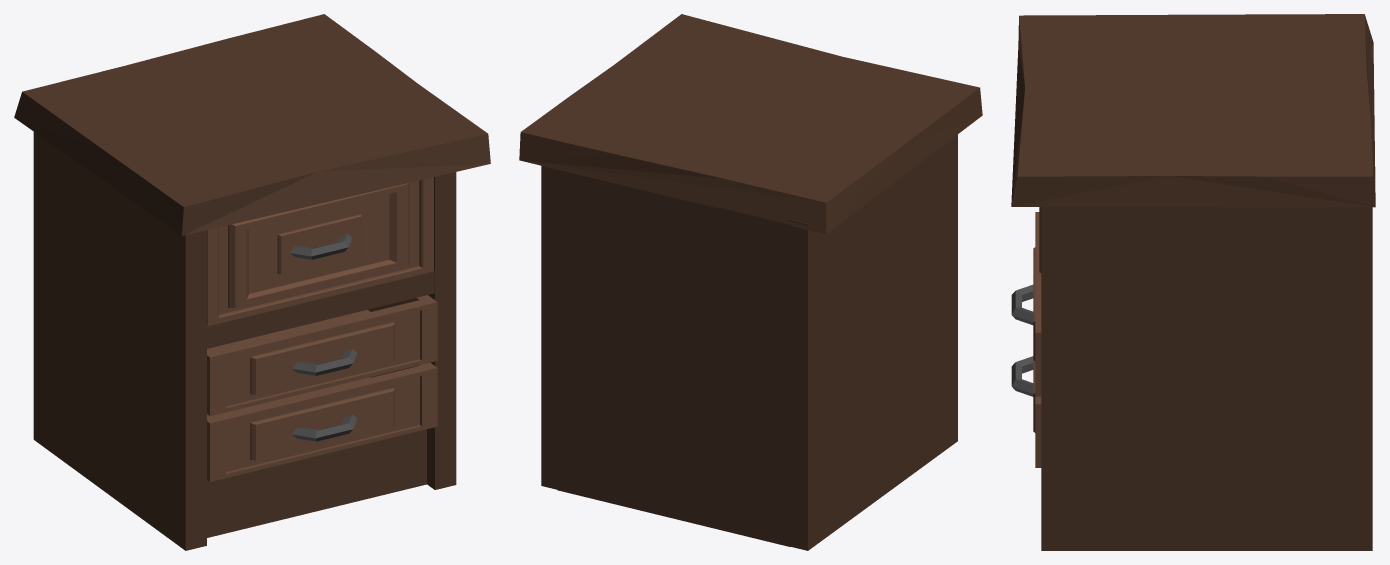
File: Шкаф1.fbx
3 views of the same model, side by side, from view 1: azimuth 30°, elevation 25°; view 2: azimuth 150°, elevation 25°; view 3: azimuth 270°, elevation 25° (orthographic). The views are drawn at different scales.
Visible parts, largest first — view 1: Cube.013, полка1, полка2, полка3; view 2: Cube.013; view 3: Cube.013, полка2, полка3.
Part boxes in pixels (x1,y1,x2,y2): Cube.013: [14, 14, 490, 550]; полка1: [207, 177, 433, 325]; полка2: [207, 295, 437, 416]; полка3: [207, 362, 437, 481]; Cube.013: [519, 14, 982, 550]; Cube.013: [1011, 14, 1375, 550]; полка2: [1011, 212, 1041, 396]; полка3: [1011, 356, 1041, 467].
Size of the model in its own units: 218 by 238 by 204.
